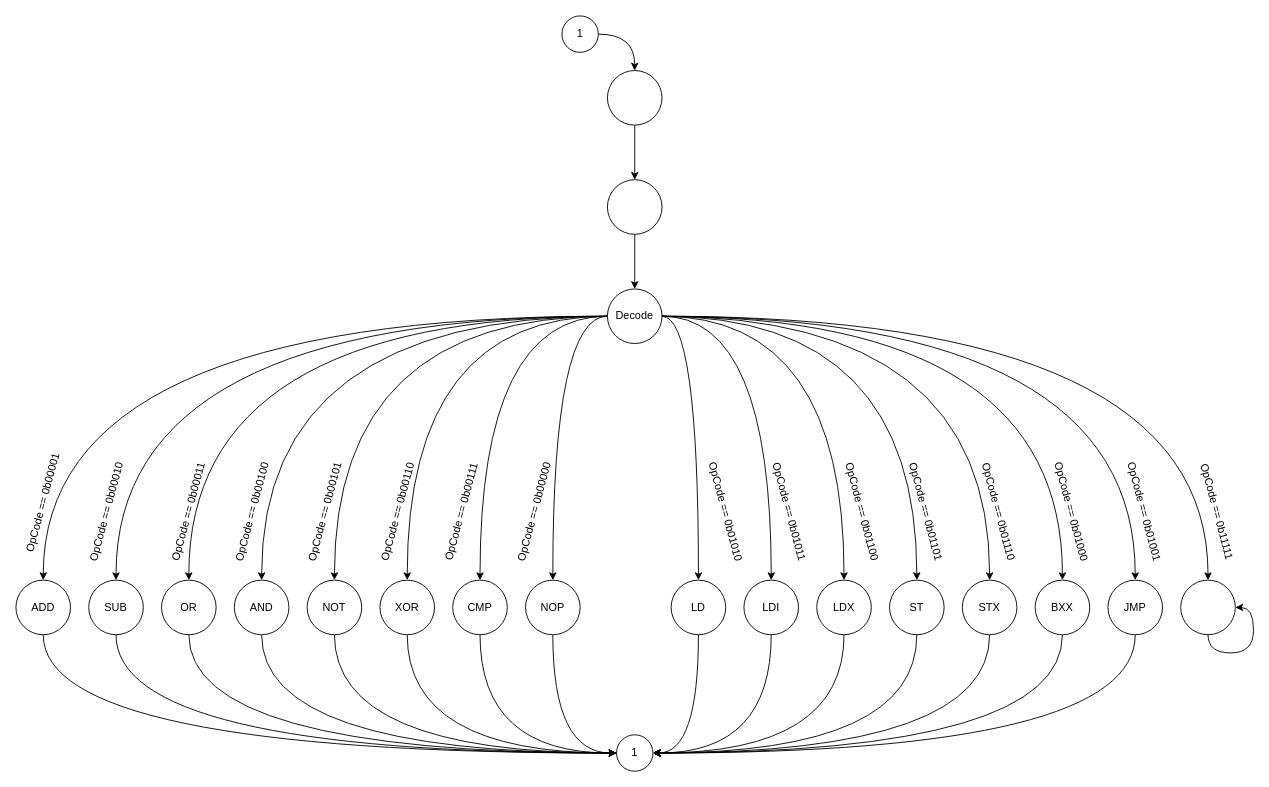
The diagram is 1269 pixels wide and 787 high, and some of its shapes have lost their labels. Each missing label, with the centre of its shape:
"Fetch" belongs at [634,206].
"HALT" belongs at [1207,607].
"Init" belongs at [634,97].
